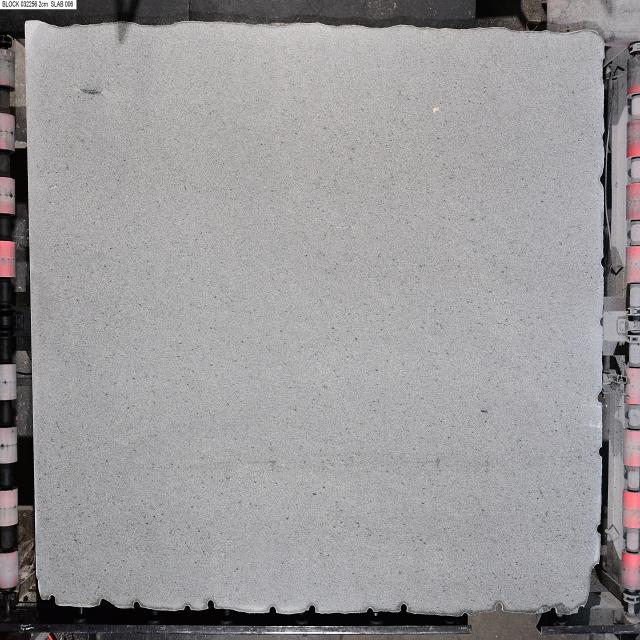chapa: (28, 22, 602, 614)
veio: (596, 386, 604, 406), (47, 594, 58, 608), (306, 602, 316, 617), (399, 602, 409, 616), (494, 600, 504, 614), (206, 598, 216, 611), (132, 599, 141, 612), (268, 604, 277, 616), (596, 521, 603, 536)
